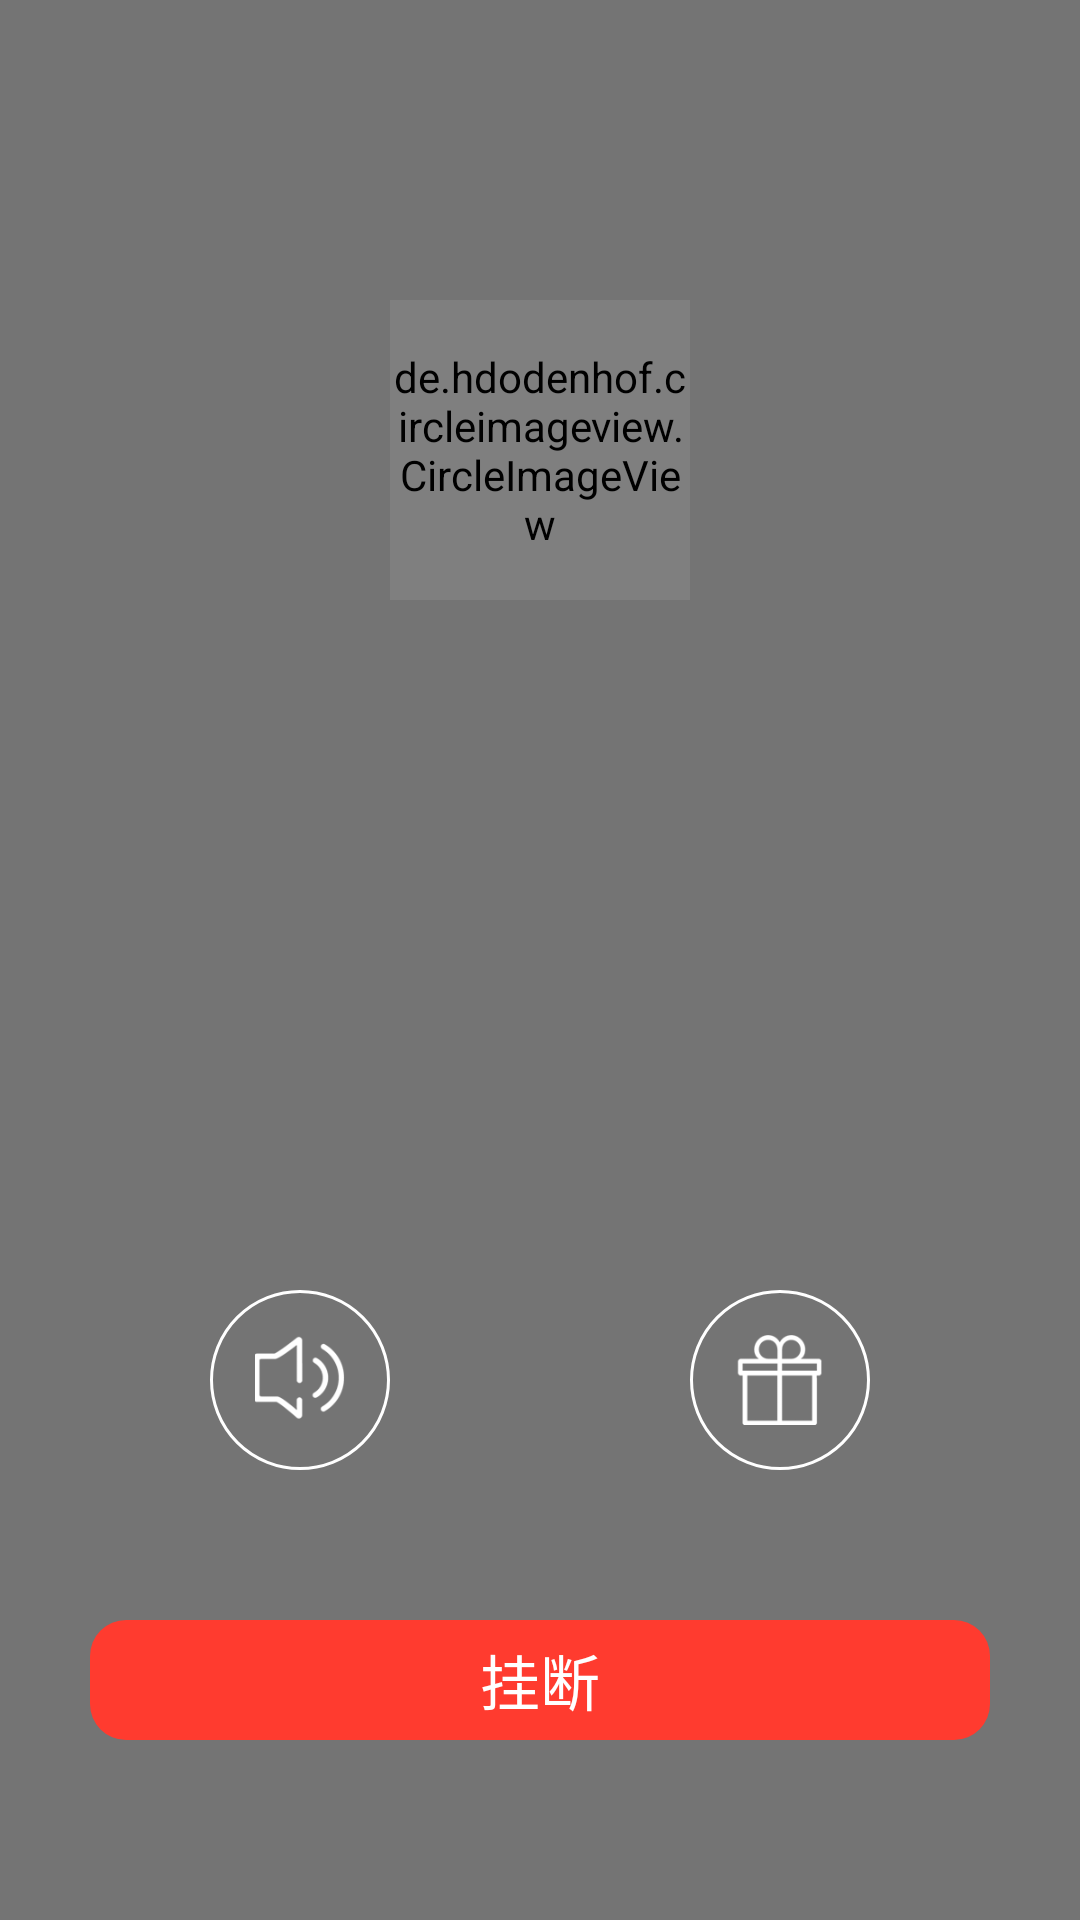

Icon bounding boxes for this 1080px×1920px phone screenshot, format (x1, y1, x2, y2):
liwu: (690, 1290, 870, 1470)
mianti: (210, 1290, 390, 1470)
